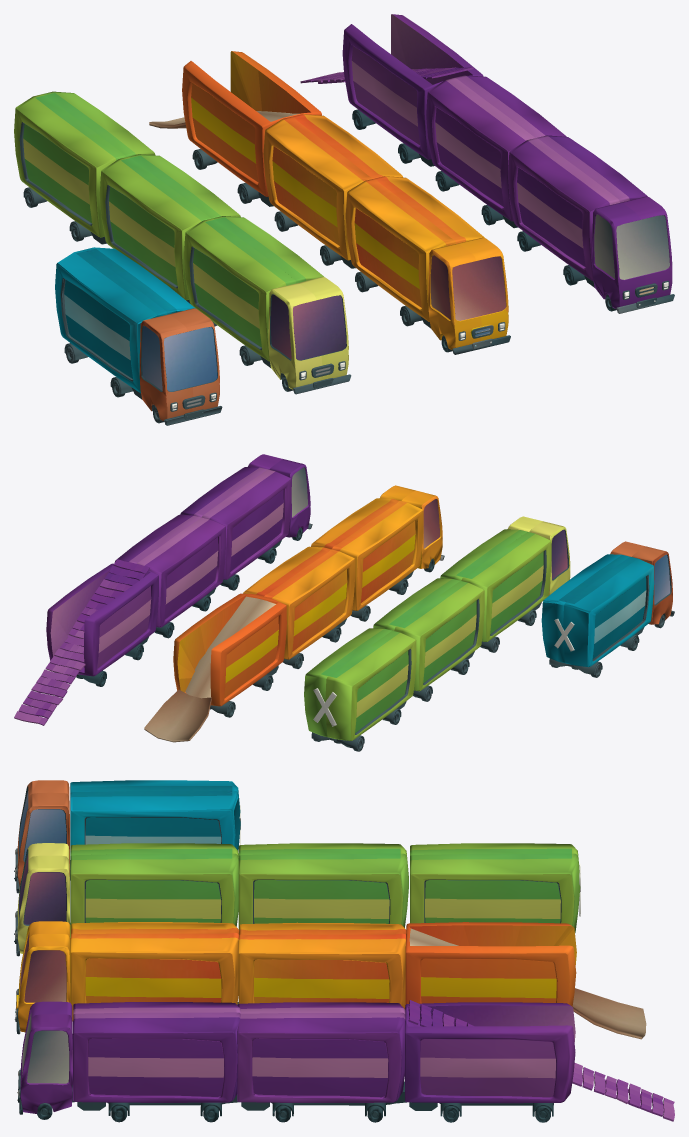
Rendered from STATIC_VEHICLES.fbx.
3 views of the same model, one above another, from view 1: azimuth 30°, elevation 25°; view 2: azimuth 150°, elevation 25°; view 3: azimuth 270°, elevation 25° (orthographic). The views are drawn at different scales.
Visible parts, largest first — view 1: pCube12_lambert1_2.332, pCylinder25_lambert1_0.140, pSphere2_lambert1_0.007, pCube12_lambert1_2.011, pCube1_lambert1_0.002, polySurface5, pCylinder23_lambert1_0.018, polySurface35; view 2: pCube12_lambert1_2.332, pCylinder25_lambert1_0.140, pSphere2_lambert1_0.007, pCube12_lambert1_2.011, polySurface5, pCube1_lambert1_0.002, polySurface35, pCylinder23_lambert1_0.018; view 3: pCube12_lambert1_2.332, pCylinder25_lambert1_0.140, pSphere2_lambert1_0.007, pCube1_lambert1_0.002, polySurface5, pCube12_lambert1_2.011, polySurface35.
Part boxes in pixels (<box>): pCube12_lambert1_2.332: <box>14,91,351,394</box>; pCylinder25_lambert1_0.140: <box>426,75,674,313</box>; pSphere2_lambert1_0.007: <box>263,114,510,354</box>; pCube12_lambert1_2.011: <box>55,247,222,425</box>; pCube1_lambert1_0.002: <box>342,14,483,166</box>; polySurface5: <box>149,51,321,196</box>; pCylinder23_lambert1_0.018: <box>192,149,452,352</box>; polySurface35: <box>300,67,473,83</box>; pCube12_lambert1_2.332: <box>304,516,570,751</box>; pCylinder25_lambert1_0.140: <box>114,454,312,638</box>; pSphere2_lambert1_0.007: <box>243,485,444,659</box>; pCube12_lambert1_2.011: <box>541,541,674,677</box>; polySurface5: <box>144,593,286,742</box>; pCube1_lambert1_0.002: <box>46,563,158,686</box>; polySurface35: <box>14,559,149,725</box>; pCylinder23_lambert1_0.018: <box>210,558,434,717</box>; pCube12_lambert1_2.332: <box>14,843,580,956</box>; pCylinder25_lambert1_0.140: <box>17,1001,405,1122</box>; pSphere2_lambert1_0.007: <box>14,921,406,1034</box>; pCube1_lambert1_0.002: <box>386,1002,575,1122</box>; polySurface5: <box>405,922,646,1039</box>; pCube12_lambert1_2.011: <box>14,780,240,893</box>; polySurface35: <box>408,1000,674,1121</box>.
Size of the model in its own units: 2489 by 475 by 2748.
1 material, 1 textured.
